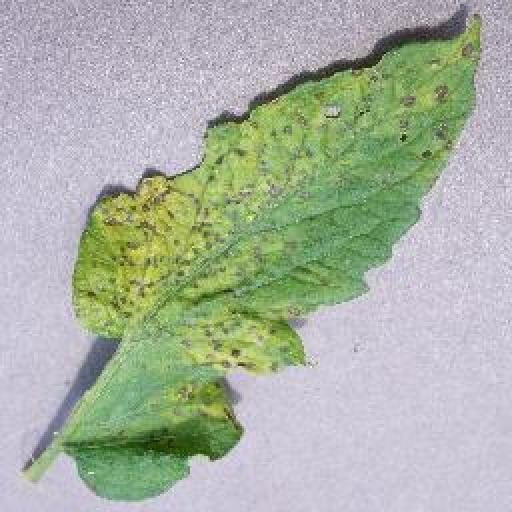Septoria: (70, 15, 484, 500)
